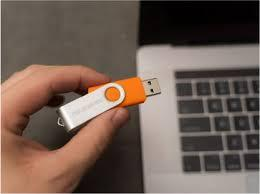Flash-drive: (49, 75, 168, 108)
